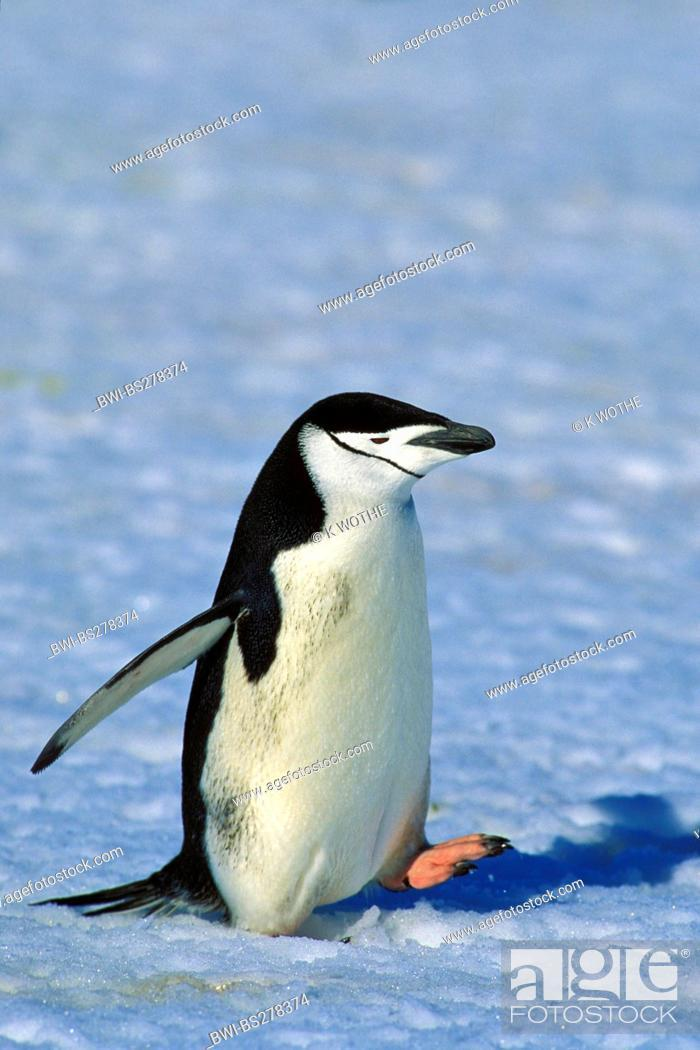chinstrap: (71, 358, 597, 1050)
